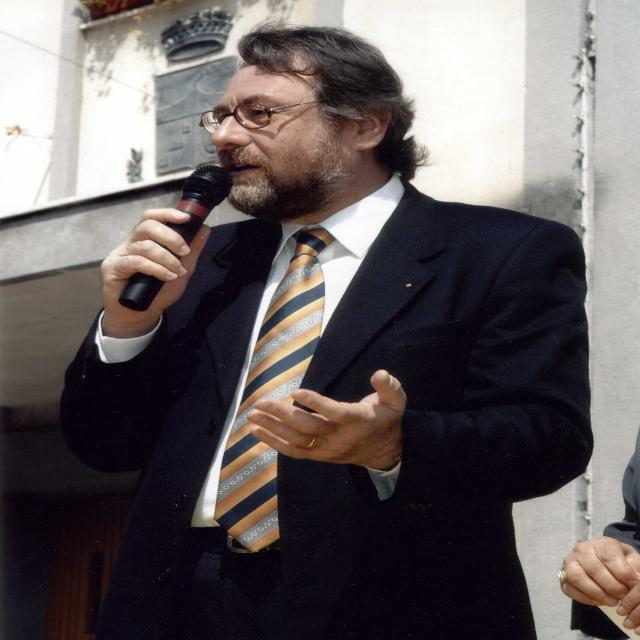microphone: (119, 149, 274, 309)
